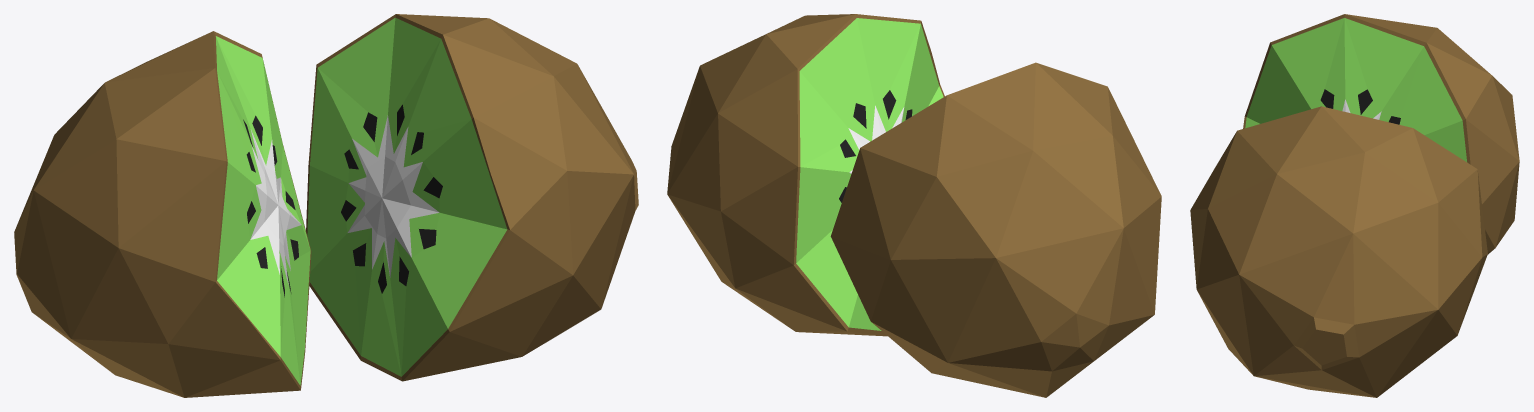
File: kiwi_cut.fbx
3 views of the same model, side by side, from view 1: azimuth 30°, elevation 25°; view 2: azimuth 150°, elevation 25°; view 3: azimuth 270°, elevation 25° (orthographic). The views are drawn at different scales.
Parts seen in each view (by area): view 1: kiwi_cut; view 2: kiwi_cut; view 3: kiwi_cut.
Part boxes in pixels (bbox=[...]): kiwi_cut: bbox=[14, 14, 638, 397]; kiwi_cut: bbox=[667, 14, 1161, 397]; kiwi_cut: bbox=[1190, 14, 1519, 397].
Bounding box in the file's own units: 170 × 102 × 109.
